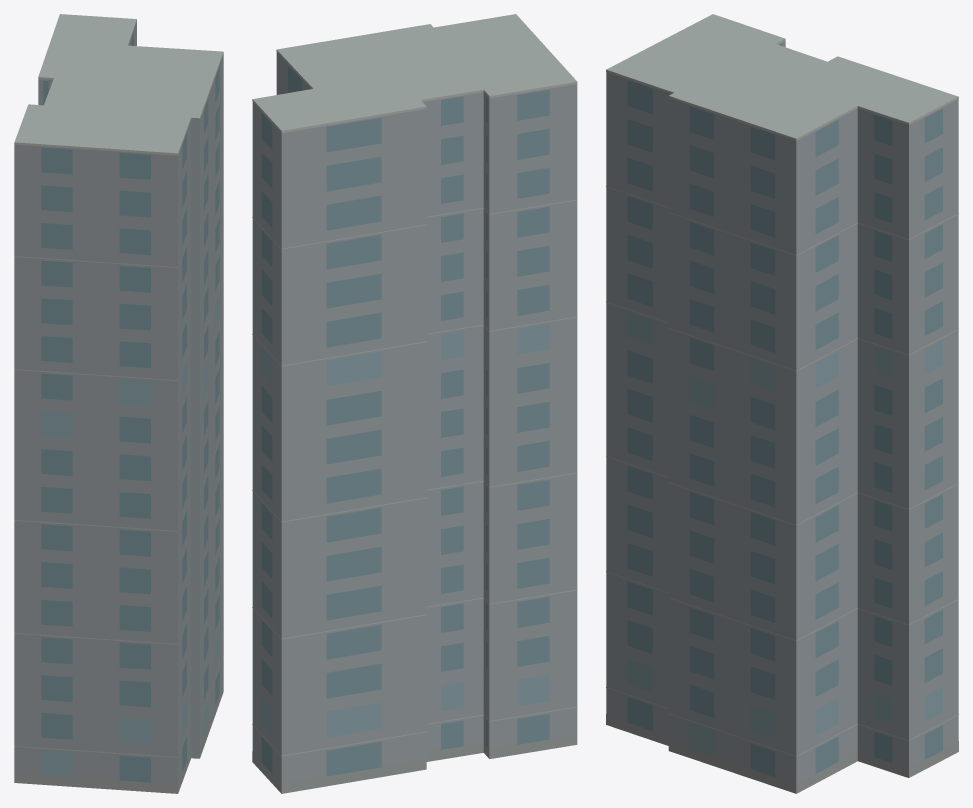
Rendered from survey-upis-32508048.glb.
The picture shows the model from 3 angles, left to right: view 1: azimuth 30°, elevation 25°; view 2: azimuth 150°, elevation 25°; view 3: azimuth 270°, elevation 25°; orthographic projection. The views are drawn at different scales.
Parts seen in each view (by area): view 1: survey-upis-32508048.tmp; view 2: survey-upis-32508048.tmp; view 3: survey-upis-32508048.tmp.
Part boxes in pixels (x1,y1,x2,y2): survey-upis-32508048.tmp: (14,14,223,793); survey-upis-32508048.tmp: (252,14,577,793); survey-upis-32508048.tmp: (606,14,958,793).
Size of the model in its own units: 28.89 by 70.7 by 34.51.
